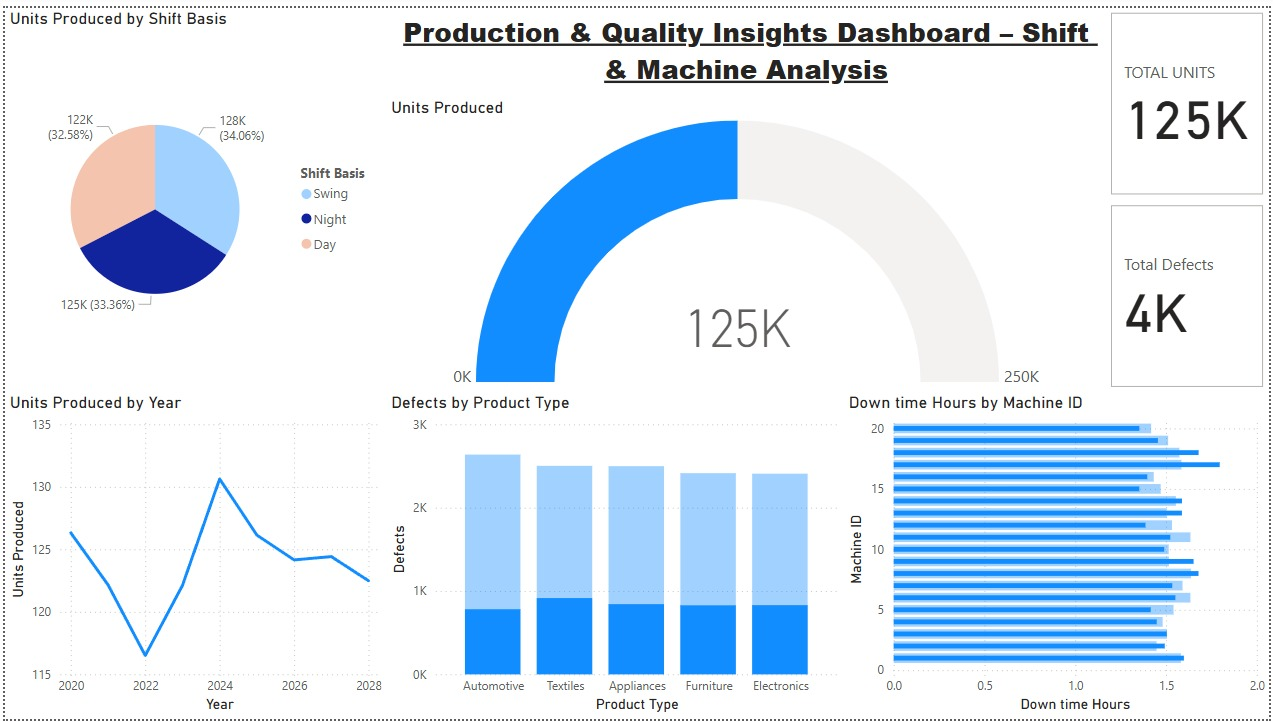

What the dashboard file says about the page in this screenshot:
{"tool":"powerbi","page":{"name":"Page 1","canvas":[1280,720],"ordinal":0},"visuals":[{"type":"cardVisual","fields":{"Data":["Manufacturing Dataset.Total Units"]},"box":[1115.1,0,164.4,194.5],"z":0},{"type":"lineChart","fields":{"Category":["Manufacturing Dataset.Date.Variation.Date Hierarchy.Year"],"Y":["Avg(Manufacturing Dataset.Units Produced)"]},"box":[0,389,386.3,330.1],"z":1000},{"type":"barChart","fields":{"Y":["Avg(Manufacturing Dataset.Down time Hours)"],"Category":["Manufacturing Dataset.Machine ID"]},"box":[849.3,389,431.5,330.1],"z":2000},{"type":"clusteredColumnChart","fields":{"Category":["Manufacturing Dataset.Product Type"],"Y":["Sum(Manufacturing Dataset.Defects)"]},"box":[386.3,389,463,330.1],"z":3000},{"type":"pieChart","fields":{"Category":["Manufacturing Dataset.Shift"],"Y":["Sum(Manufacturing Dataset.Units Produced)"]},"box":[0,0,386.3,389],"z":3001},{"type":"cardVisual","fields":{"Data":["Manufacturing Dataset.Total Defects"]},"box":[1115.1,194.5,164.4,194.5],"z":3002},{"type":"textbox","box":[386.3,0,728.8,90.4],"z":3003},{"type":"gauge","fields":{"Y":["Sum(Manufacturing Dataset.Units Produced)"]},"box":[386,90,729,299],"z":3004}]}

Visuals, with their boxes in screenshot pixels (x1, y1, x2, y2), scaled from the page's 1280x720 canvas onto the 1273x722 screenshot:
cardVisual - Manufacturing Dataset.Total Units: BBox(1109, 0, 1272, 195)
lineChart - Manufacturing Dataset.Date.Variation.Date Hierarchy.Year x Avg(Manufacturing Dataset.Units Produced): BBox(0, 390, 384, 721)
barChart - Avg(Manufacturing Dataset.Down time Hours) x Manufacturing Dataset.Machine ID: BBox(845, 390, 1272, 721)
clusteredColumnChart - Manufacturing Dataset.Product Type x Sum(Manufacturing Dataset.Defects): BBox(384, 390, 845, 721)
pieChart - Manufacturing Dataset.Shift x Sum(Manufacturing Dataset.Units Produced): BBox(0, 0, 384, 390)
cardVisual - Manufacturing Dataset.Total Defects: BBox(1109, 195, 1272, 390)
textbox: BBox(384, 0, 1109, 91)
gauge - Sum(Manufacturing Dataset.Units Produced): BBox(384, 90, 1109, 390)
